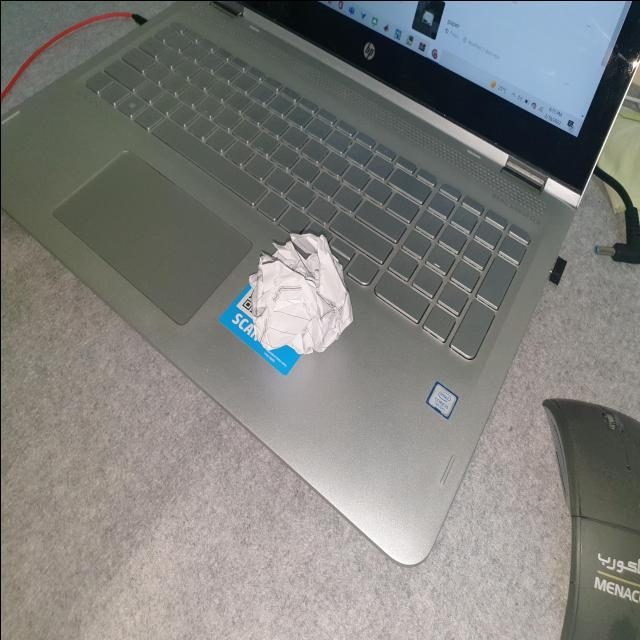kertas: (242, 217, 356, 366)
